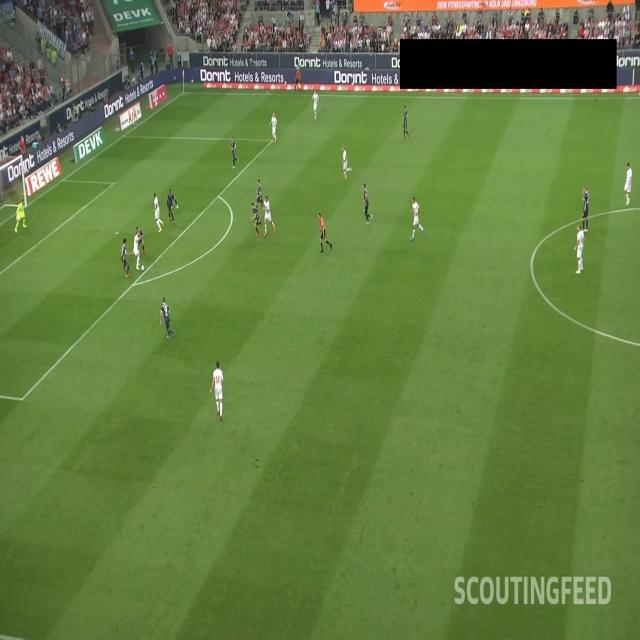ball: (140, 264, 144, 272)
